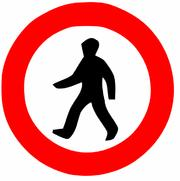Pedestrian Crossing: (10, 9, 171, 168)
